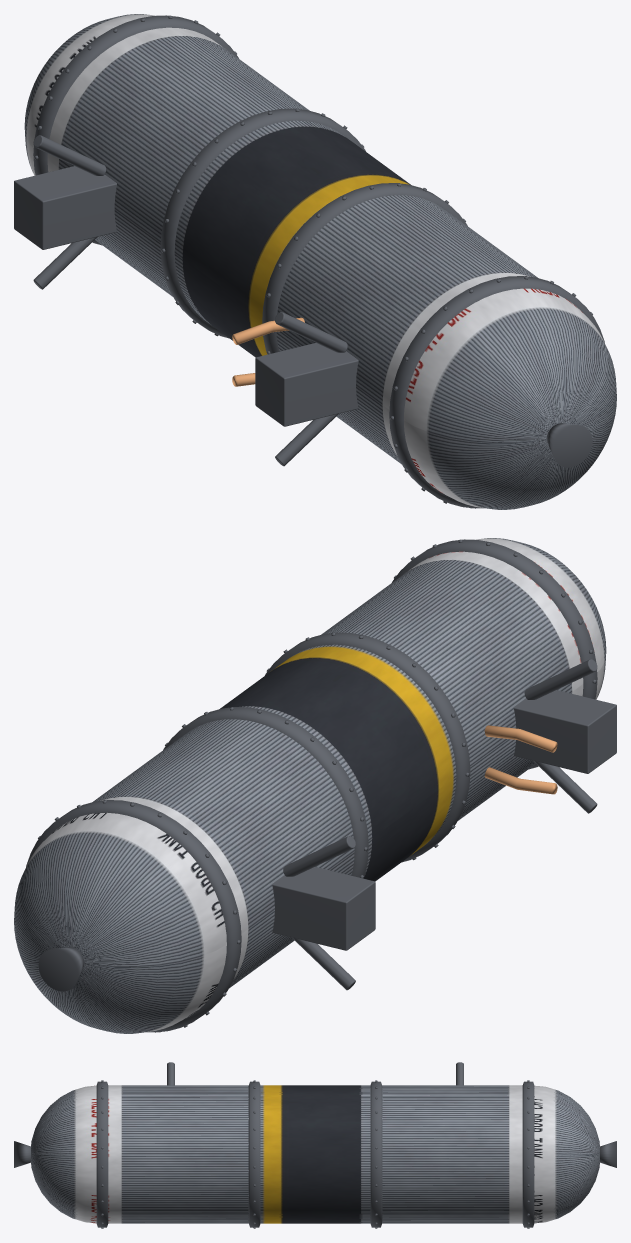
File: mod_external_drop_tank.glb
The picture shows the model from 3 angles, top to bottom: view 1: azimuth 30°, elevation 25°; view 2: azimuth 150°, elevation 25°; view 3: azimuth 270°, elevation 25°; orthographic projection. The views are drawn at different scales.
Parts seen in each view (by area): view 1: DropTank_Body, DropTank_Hardware, DropTank_Pylon_Truss, DropTank_Cryo_Feed; view 2: DropTank_Body, DropTank_Hardware, DropTank_Pylon_Truss, DropTank_Cryo_Feed; view 3: DropTank_Body, DropTank_Hardware, DropTank_Pylon_Truss.
Boxes of the visible parts, box(x1,y1,x2,y2) form: DropTank_Body: box(24, 14, 616, 509); DropTank_Hardware: box(33, 15, 604, 508); DropTank_Pylon_Truss: box(14, 135, 358, 466); DropTank_Cryo_Feed: box(232, 317, 304, 386); DropTank_Body: box(14, 538, 606, 1033); DropTank_Hardware: box(26, 539, 597, 1032); DropTank_Pylon_Truss: box(272, 659, 616, 990); DropTank_Cryo_Feed: box(484, 725, 557, 794); DropTank_Body: box(31, 1085, 599, 1223); DropTank_Hardware: box(14, 1080, 616, 1228); DropTank_Pylon_Truss: box(167, 1062, 463, 1085).
Size of the model in its own units: 5.08 by 3.91 by 15.85.
3 materials, 1 textured.
